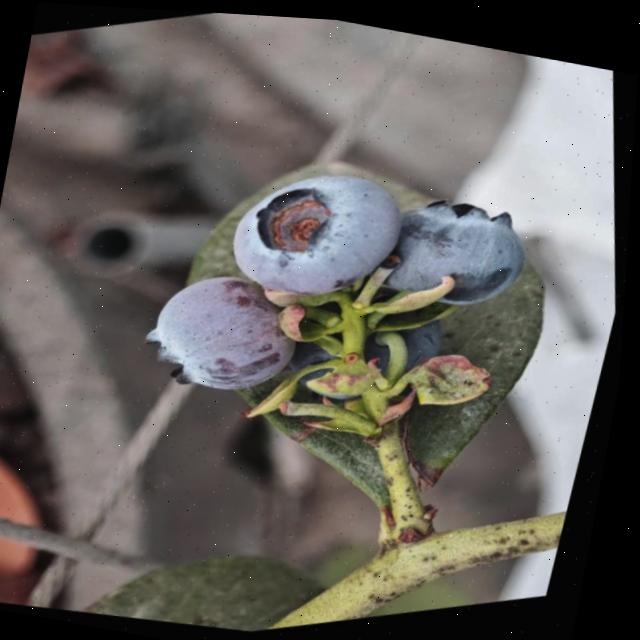RipeBlueBerry: (109, 227, 355, 439), (203, 121, 422, 340), (365, 152, 562, 335)
